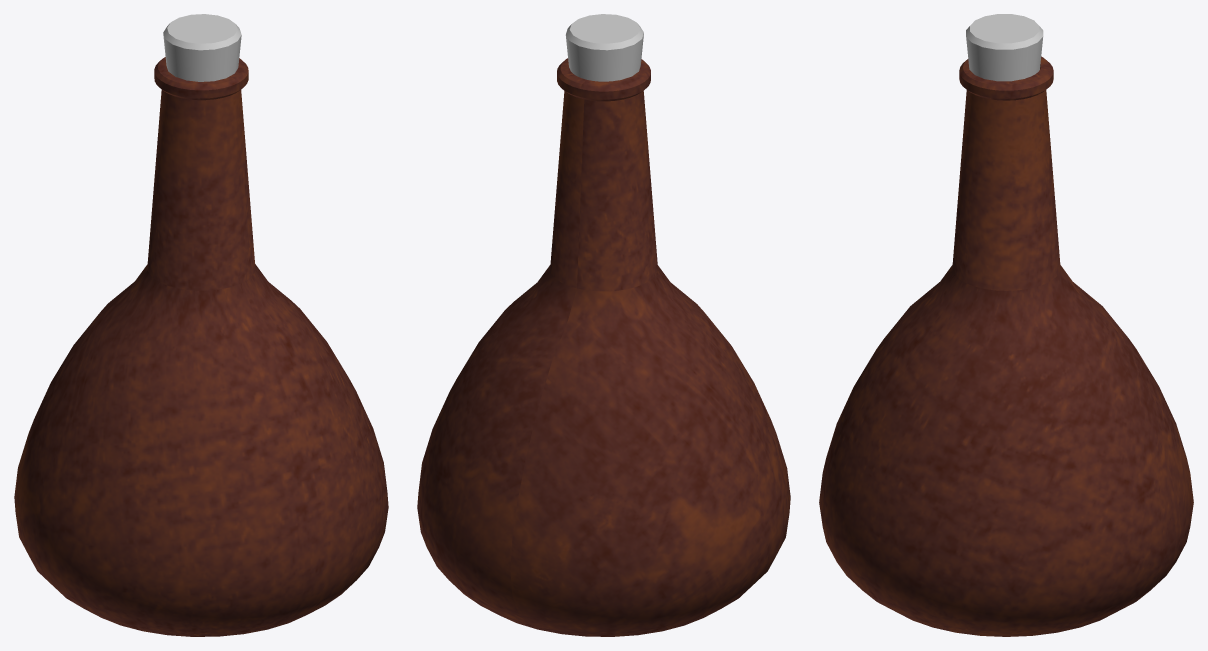
Rendered from Bottle1_Magnant_Grace.FBX.
3 renders of one model, left to right at view 1: azimuth 30°, elevation 25°; view 2: azimuth 150°, elevation 25°; view 3: azimuth 270°, elevation 25°, orthographic.
Parts seen in each view (by area): view 1: Test; view 2: Test; view 3: Test.
Part boxes in pixels (left/top/right/bottom): Test: left=14, top=14, right=388, bottom=636; Test: left=417, top=14, right=790, bottom=636; Test: left=819, top=14, right=1193, bottom=636.
Bounding box in the file's own units: 20.74 × 33.72 × 20.74.
